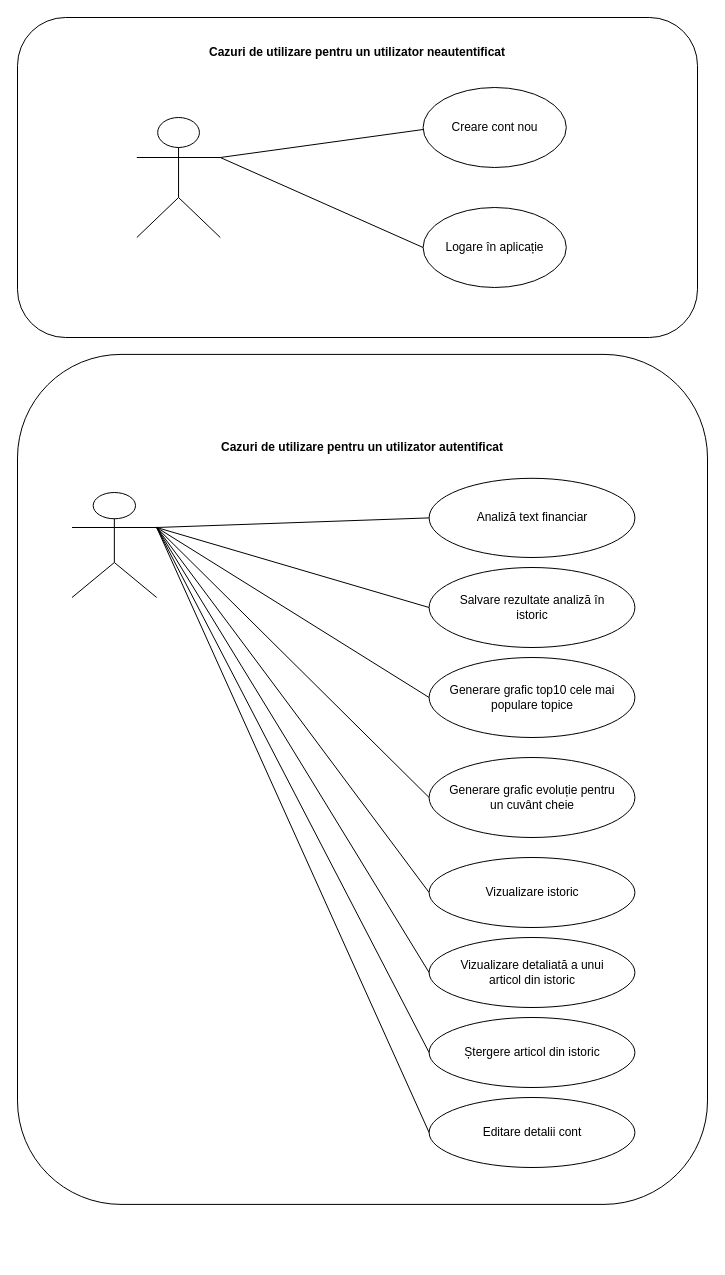
Image size: 725x1275. Some labels were removed from this diagram. The shapes that lost their labels are listed below. From the top down, each one's box as (x1, y1, x2, y2) in pixels, then its label:
(136, 116, 220, 238): Utilizator neautentificat
(71, 492, 157, 598): Utilizator autentificat
